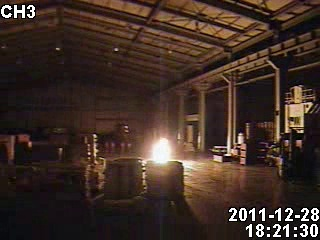fire: (147, 130, 175, 165)
